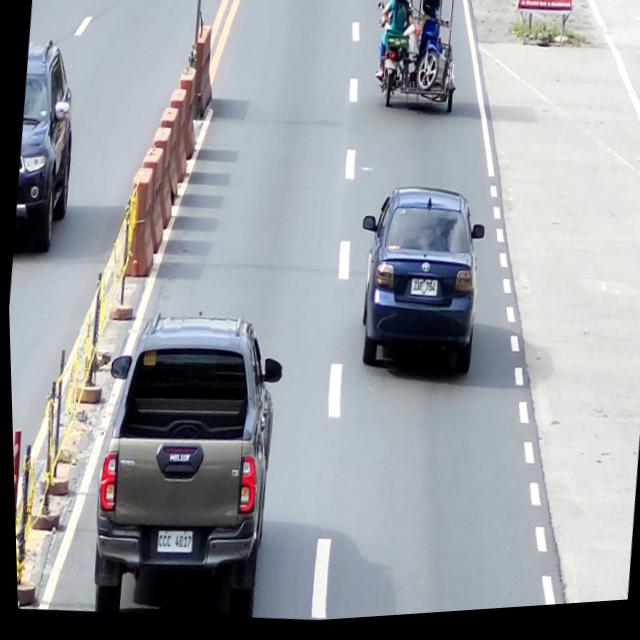Car: (78, 301, 290, 629), (344, 182, 490, 386), (6, 33, 84, 256)
License-Plate: (150, 527, 191, 558), (406, 280, 437, 306), (382, 61, 399, 78)
Tricycle: (366, 0, 466, 123)
